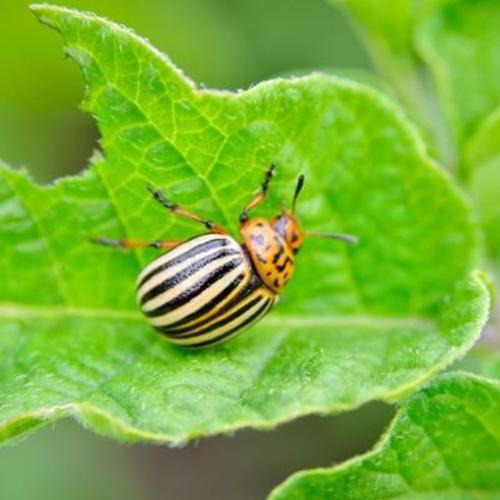Curculionidae: (86, 160, 357, 348)
